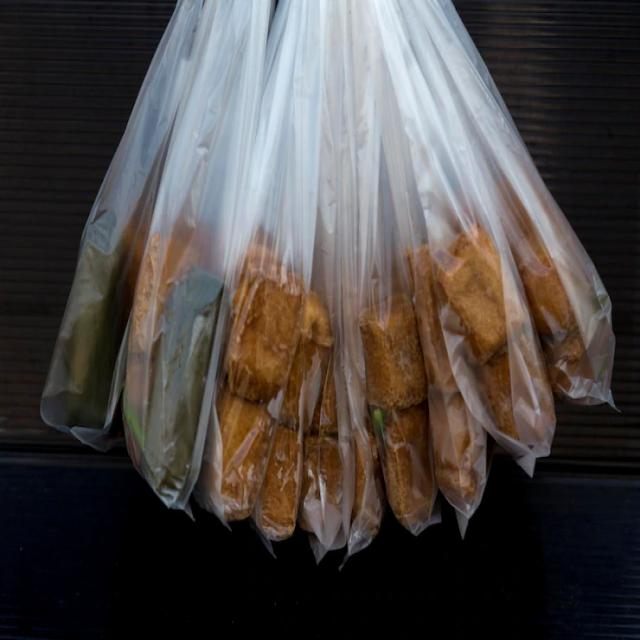plastic_bag: (40, 0, 633, 579)
